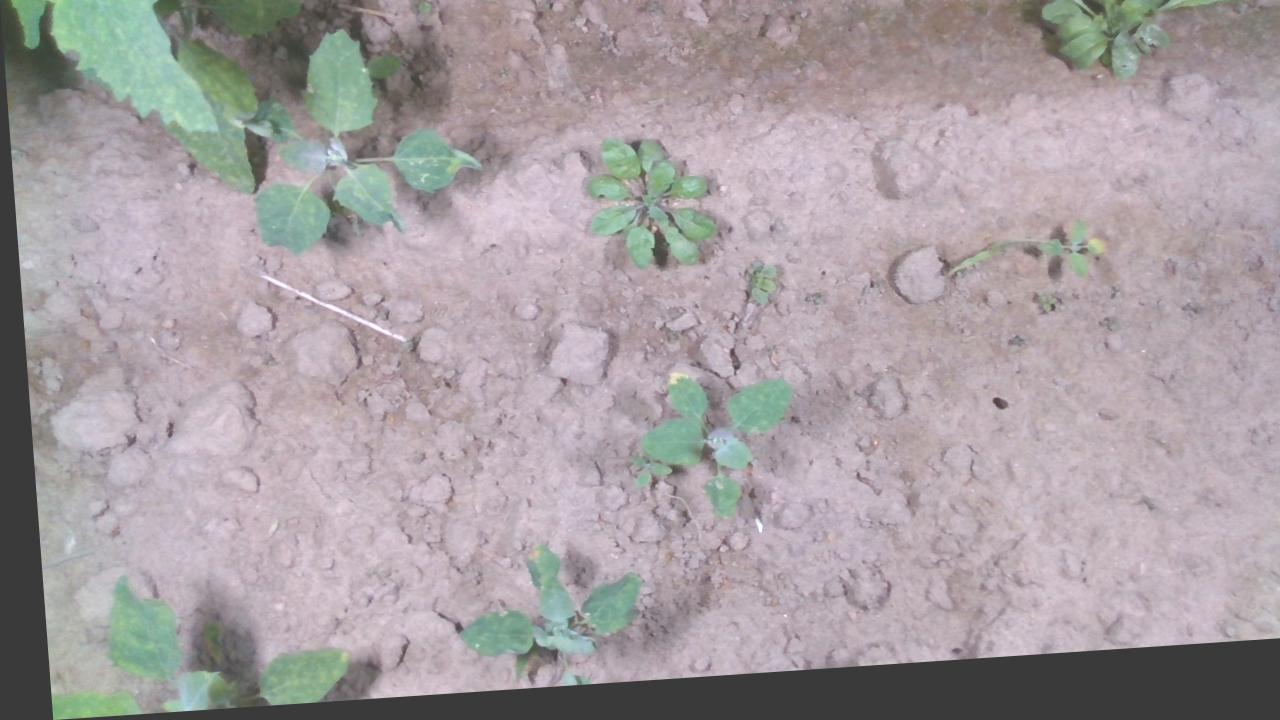weed: (735, 270, 770, 319), (1030, 303, 1051, 327)
